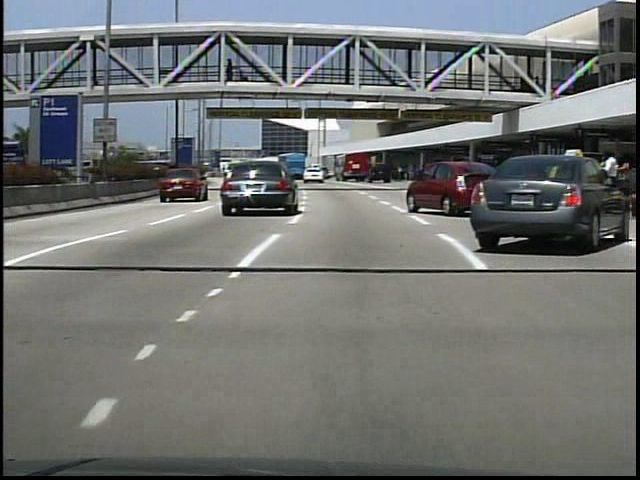person: (224, 57, 238, 85)
